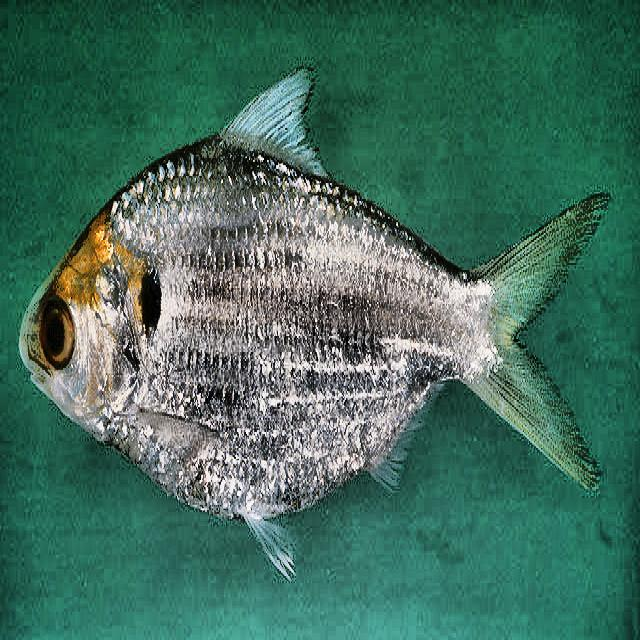fish: (18, 65, 612, 584)
